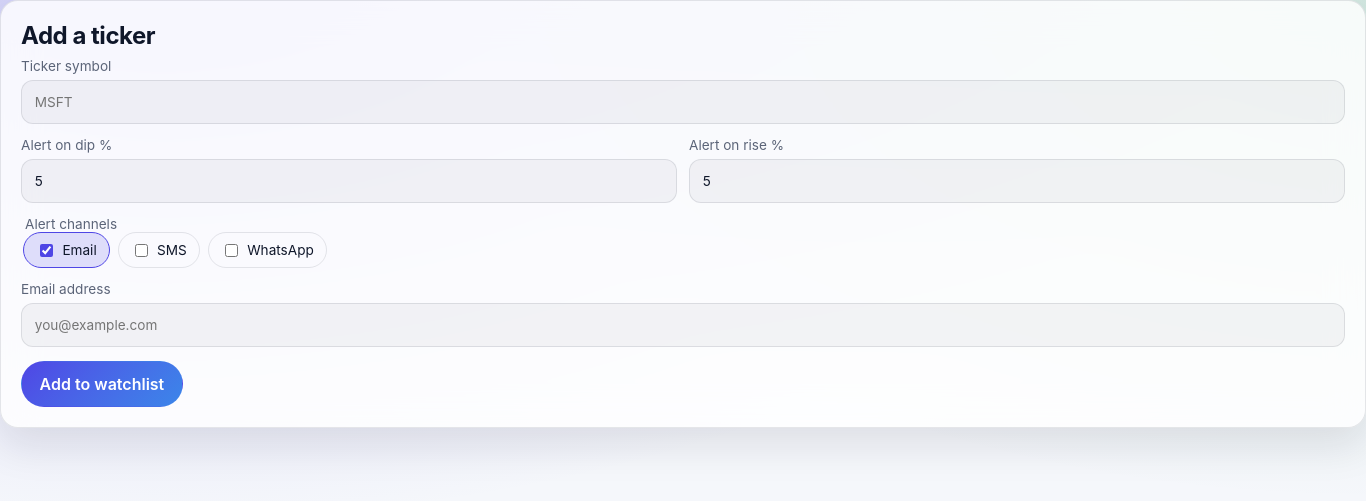
it: WatchForm › rejects an invalid draft
This screenshot has width=1366, height=501.
In the field labelled "Ticker symbol": {"x": 683, "y": 102} [21,80,1345,124], type "aapl"
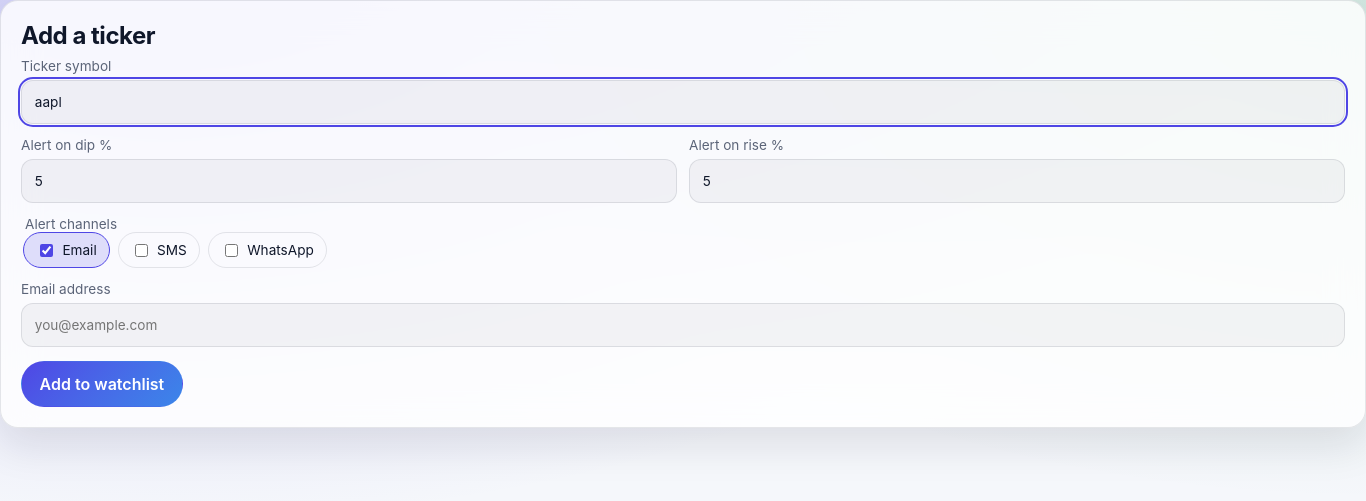
Click the button "Add to watchlist": {"x": 102, "y": 384} [21,360,183,406]
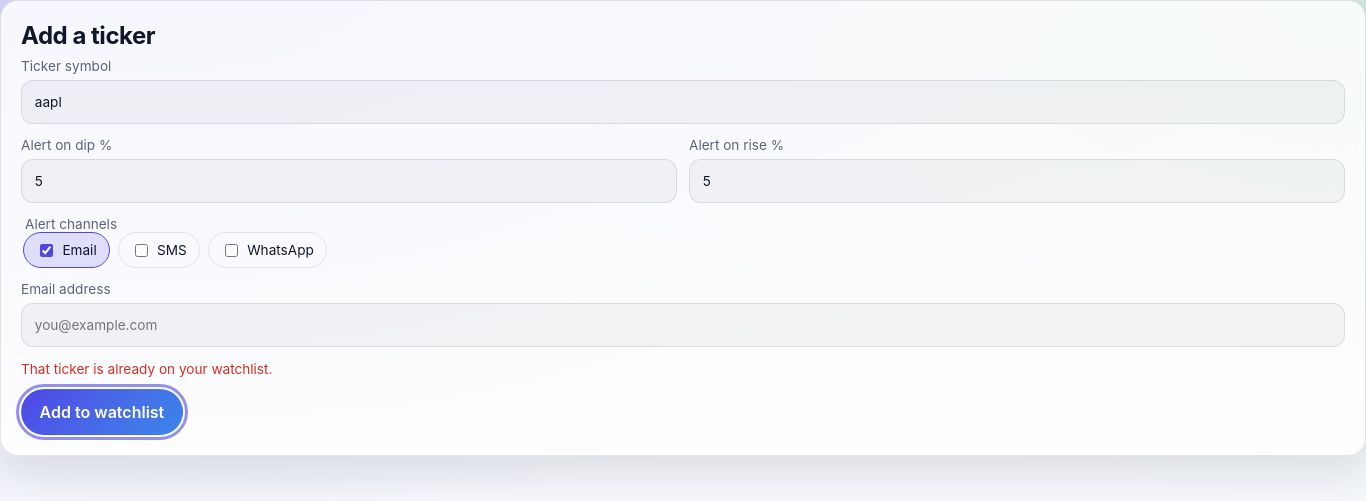
Now the message shows "already on your watchlist", box [21,360,272,376]
